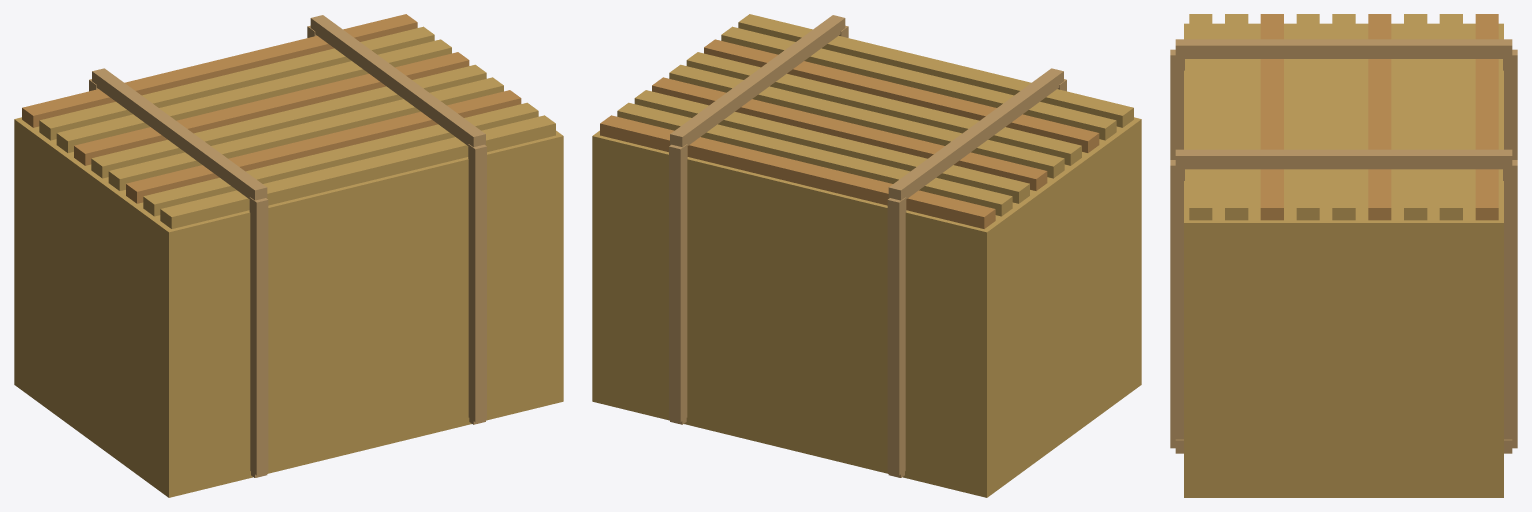
File: 29_tied_hay_bale.fbx
3 views of the same model, side by side, from view 1: azimuth 30°, elevation 25°; view 2: azimuth 150°, elevation 25°; view 3: azimuth 270°, elevation 25° (orthographic). The views are drawn at different scales.
Parts seen in each view (by area): view 1: 29_tied_hay_bale; view 2: 29_tied_hay_bale; view 3: 29_tied_hay_bale.
Boxes of the visible parts, box(x1,y1,x2,y2) form: 29_tied_hay_bale: box(14, 14, 563, 497); 29_tied_hay_bale: box(592, 14, 1141, 497); 29_tied_hay_bale: box(1170, 14, 1517, 497).
Bounding box in the file's own units: 1.12 × 0.7875 × 0.825.
Materials: 1 (1 with a texture image).
